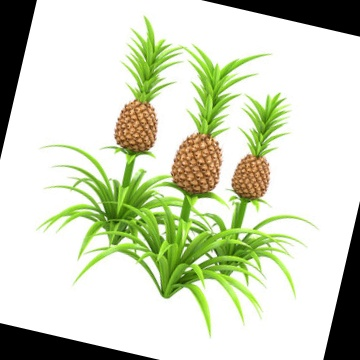Pineapple: (171, 43, 269, 194), (112, 15, 183, 155), (228, 91, 293, 202)
